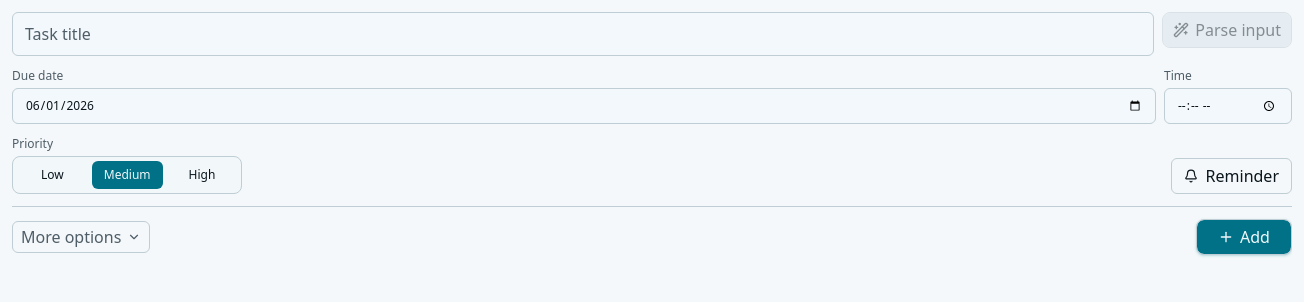
Test case: TaskComposer › displays inline error with role='alert' when task creation fails (UX-013)
In the field labelled "Task title": [583, 34] box x1=12 y1=12 x2=1154 y2=56, type "Important Task"
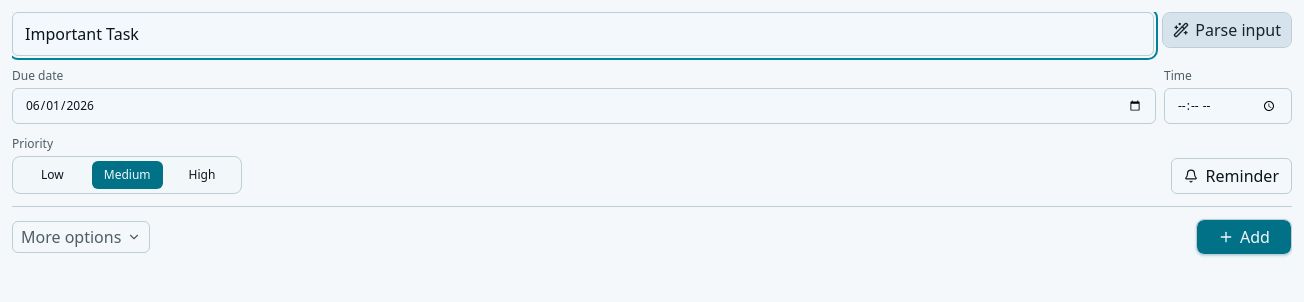
Click the button "Add": [1244, 237] box x1=1196 y1=219 x2=1292 y2=255
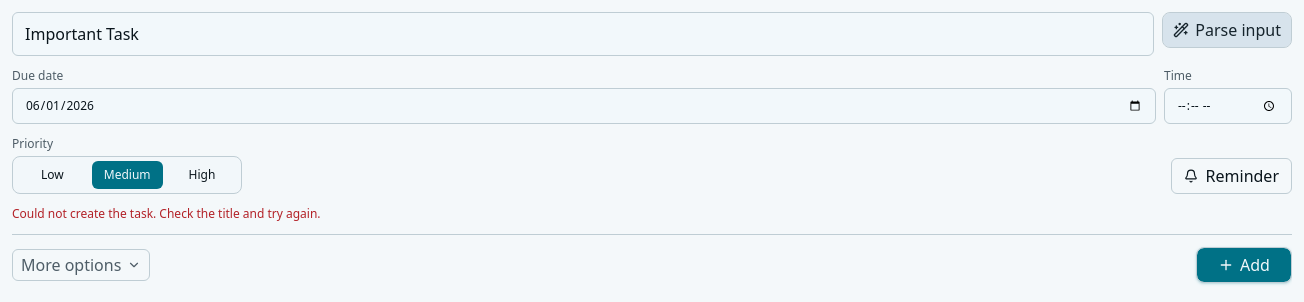
Expected: the message reads "Could not create the task. Check the title and try again.", x1=12 y1=205 x2=321 y2=222
